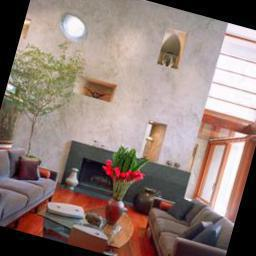Matera: (91, 139, 153, 233)
Otro Obstaculo: (128, 184, 156, 217), (56, 163, 82, 195)
